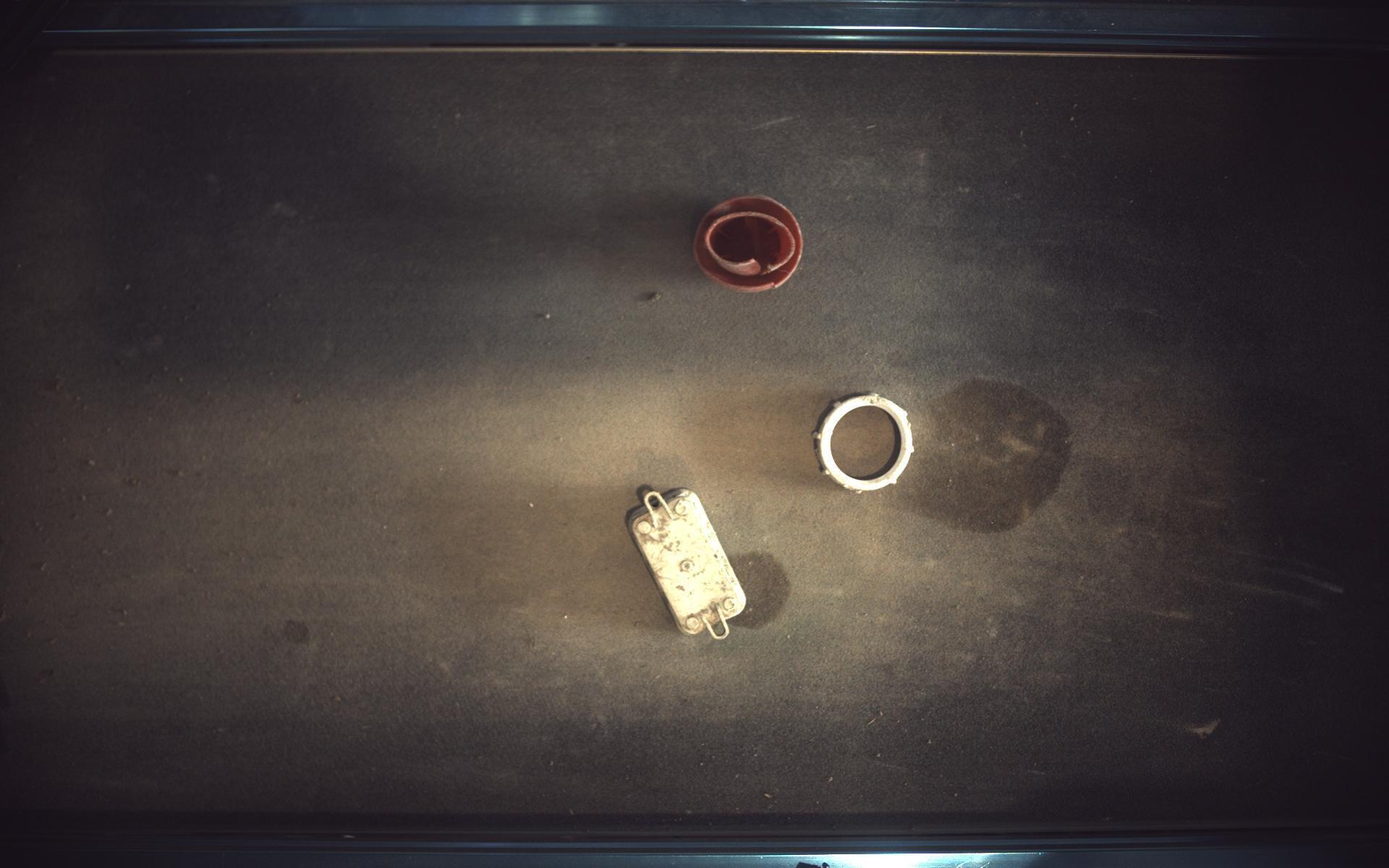pipes: (627, 489, 747, 639), (694, 195, 804, 292), (815, 393, 916, 492)
